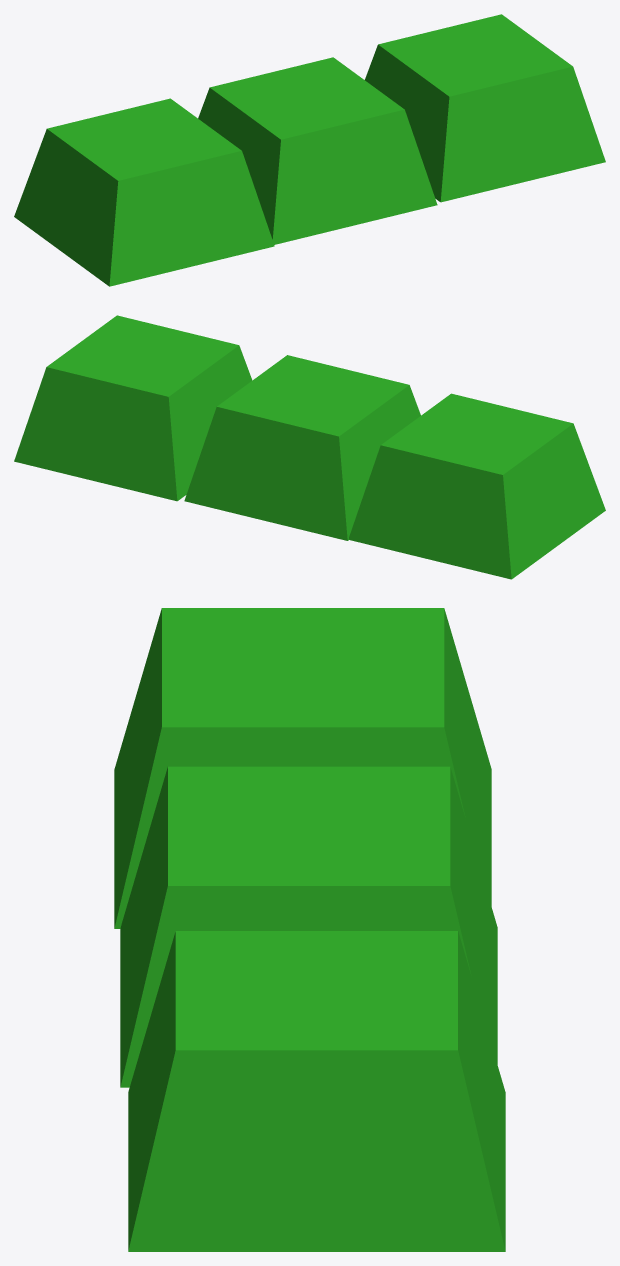
The model's file is Horizontal3x1_LightGreen_low poly.fbx.
3 renders of one model, top to bottom at view 1: azimuth 30°, elevation 25°; view 2: azimuth 150°, elevation 25°; view 3: azimuth 270°, elevation 25°, orthographic. The views are drawn at different scales.
Visible parts, largest first — view 1: Cube.039; view 2: Cube.039; view 3: Cube.039.
Part boxes in pixels (x1,y1,x2,y2): Cube.039: (14,14,605,286); Cube.039: (14,315,605,579); Cube.039: (114,608,505,1251).
Bounding box in the file's own units: 14.12 × 7.23 × 41.2.
